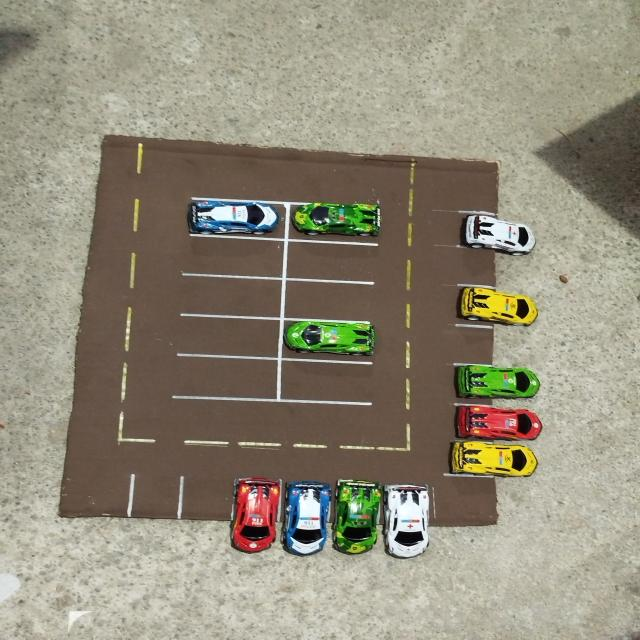libre: (172, 312, 279, 358), (171, 355, 277, 401), (180, 233, 285, 278), (176, 273, 281, 317), (61, 465, 130, 528), (277, 360, 377, 402), (128, 468, 182, 543), (285, 239, 381, 281), (456, 324, 553, 364), (181, 470, 228, 546), (284, 280, 371, 320), (453, 252, 548, 286)
no_estacionarse: (431, 476, 514, 529)
ocupado: (228, 475, 280, 569), (288, 476, 334, 570), (280, 316, 376, 361), (452, 283, 550, 327), (448, 438, 550, 479), (184, 197, 282, 239), (336, 478, 384, 560), (287, 200, 382, 241), (455, 359, 547, 401), (456, 402, 552, 442), (384, 480, 432, 559), (449, 211, 538, 251)
